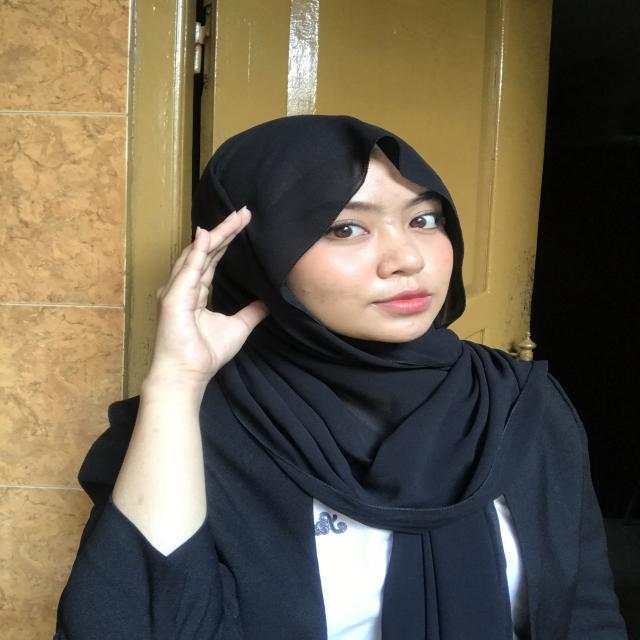mendengar: (149, 199, 292, 390)
